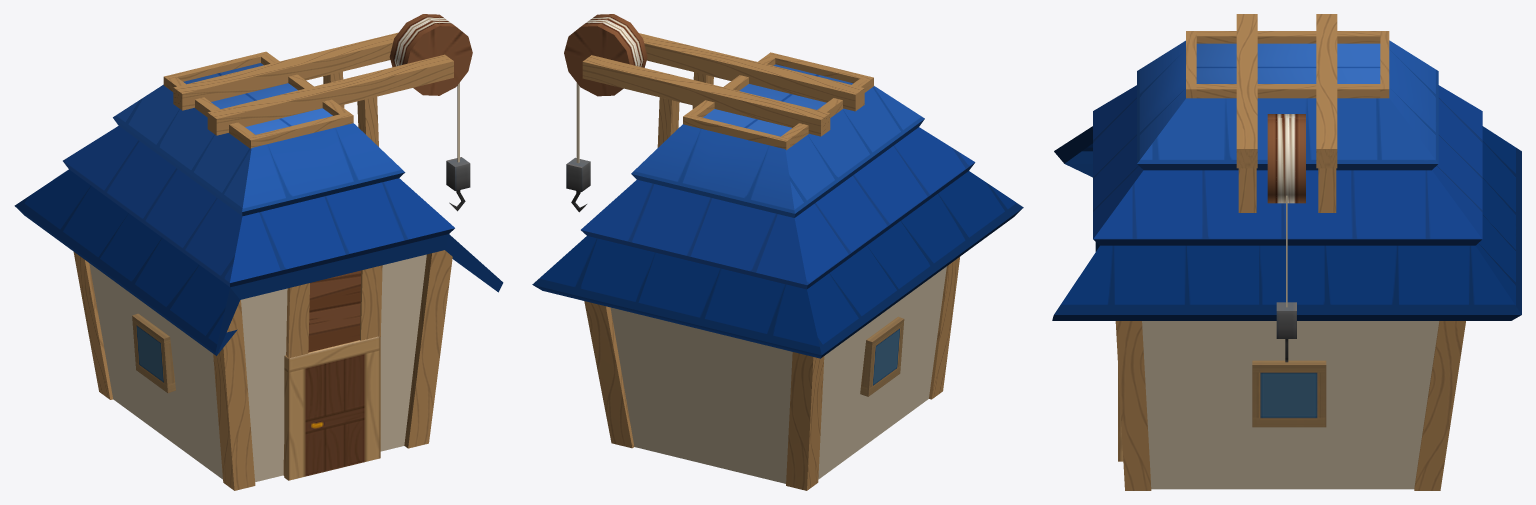
Rendered from building_storage_lv1.FBX.
3 views of the same model, side by side, from view 1: azimuth 30°, elevation 25°; view 2: azimuth 150°, elevation 25°; view 3: azimuth 270°, elevation 25° (orthographic). The views are drawn at different scales.
Visible parts, largest first — view 1: building_storage_lv1, building_storage_roof_lv1; view 2: building_storage_roof_lv1, building_storage_lv1; view 3: building_storage_roof_lv1, building_storage_lv1.
Boxes of the visible parts, bbox=[...] form: building_storage_lv1: bbox=[73, 14, 472, 490]; building_storage_roof_lv1: bbox=[14, 63, 503, 355]; building_storage_roof_lv1: bbox=[532, 64, 1023, 358]; building_storage_lv1: bbox=[564, 14, 959, 490]; building_storage_roof_lv1: bbox=[1052, 40, 1521, 320]; building_storage_lv1: bbox=[1115, 14, 1465, 490].
Size of the model in its own units: 329 by 319 by 328.
